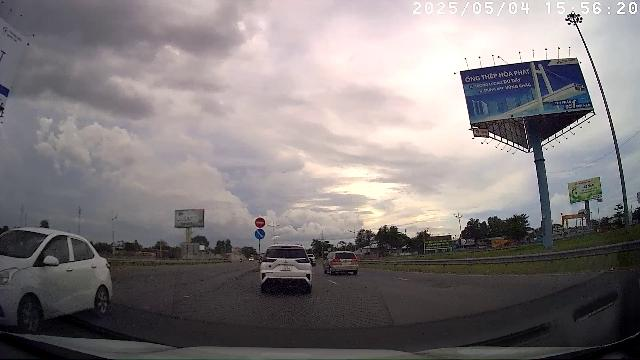102-cam-di-nguoc-chieu: (255, 217, 265, 228)
302a-huong-phai-di-vong-chuong-ngai-vat-1: (254, 229, 266, 240)
